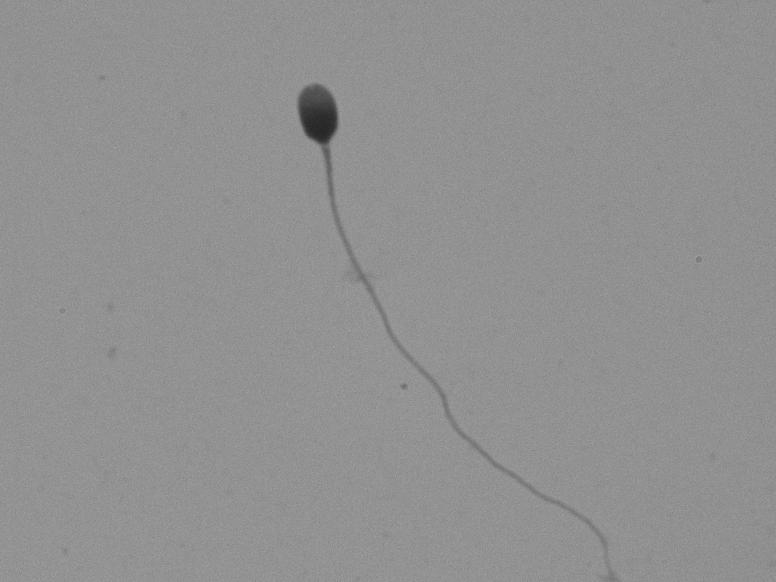Normal: (229, 45, 609, 552)
